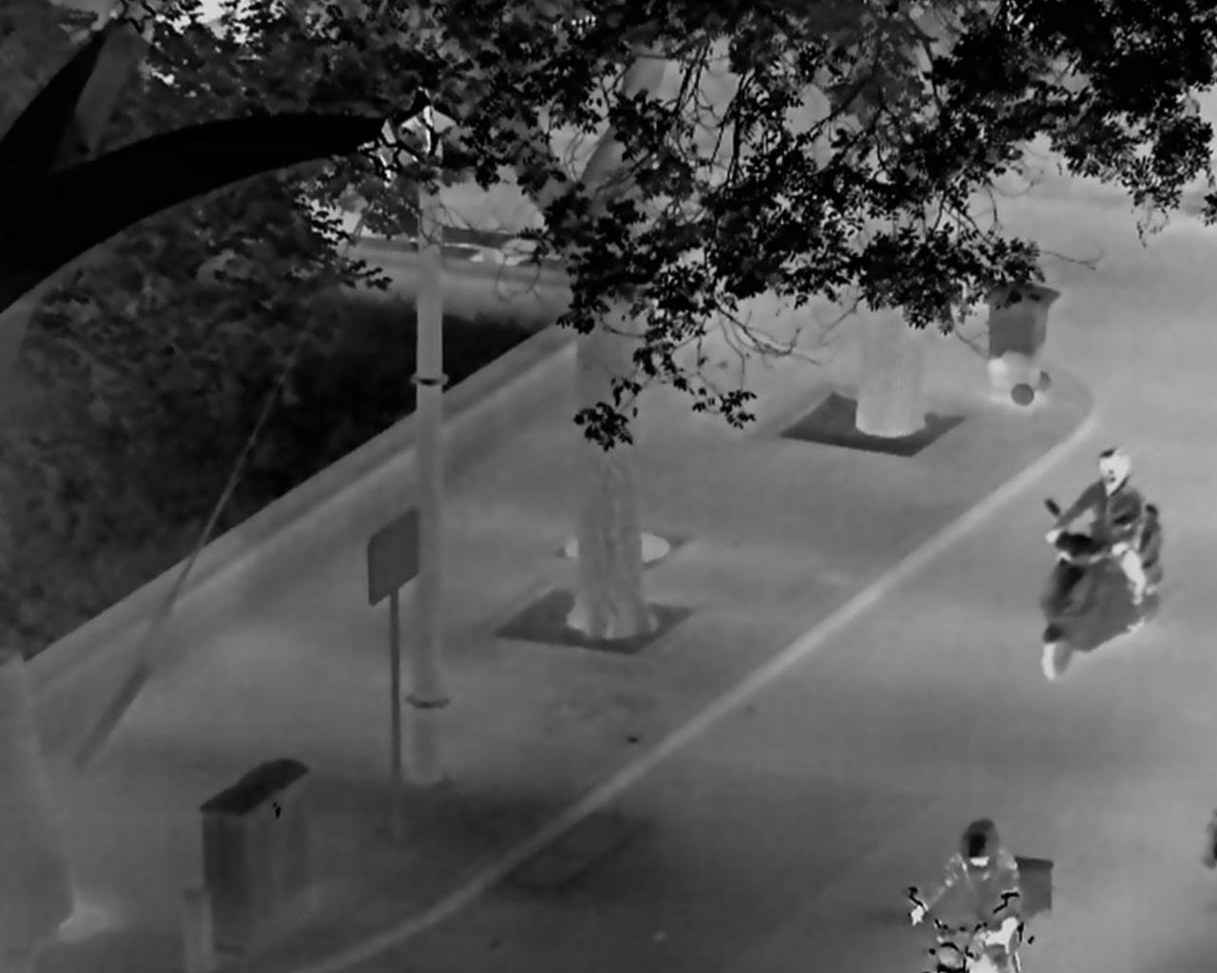person: (1046, 448, 1149, 634), (905, 816, 1022, 973)
